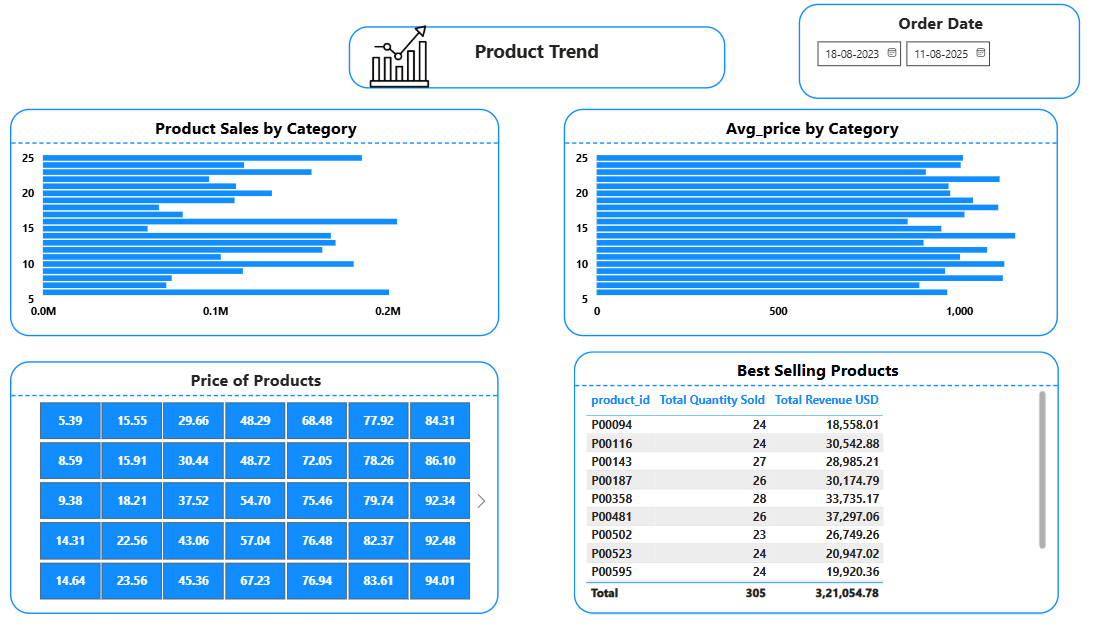

The page's visual inventory and layout, read from the dashboard file:
{"tool":"powerbi","page":{"name":"Product Trend","canvas":[1280,720],"ordinal":2},"visuals":[{"type":"barChart","title":"Product Sales by Category","fields":{"Category":["ecom_maang categories.category_id"],"Y":["ecom_maang categories.Product Sales USD"]},"box":[16.9,124.1,559,260.2],"z":0},{"type":"barChart","title":"Avg_price  by Category","fields":{"Category":["ecom_maang categories.category_id"],"Y":["ecom_maang categories.Average Product Price USD"]},"box":[649.4,124.1,565.1,260.2],"z":1000},{"type":"tableEx","title":"Best Selling Products","fields":{"Values":["ecom_maang products.product_id","ecom_maang categories.Total Quantity Sold","ecom_maang categories.Total Revenue USD"]},"box":[661.4,401.4,554.3,300],"z":2000},{"type":"textbox","box":[403.6,30.1,430.1,71.1],"z":3000},{"type":"image","box":[415.7,15.7,92.8,97.6],"z":4000},{"type":"slicer","title":"Order Date","fields":{"Values":["ecom_maang products.created_at"]},"box":[918.6,4.3,324.3,120],"z":5000},{"type":"slicer","title":"Price of Products","fields":{"Values":["ecom_maang products.price_usd"]},"box":[17.1,412.9,558.6,288.6],"z":6000}]}

Visuals, with their boxes in screenshot pixels (x1, y1, x2, y2), scaled from the page's 1280x720 canvas onto the 1112x626 screenshot:
"Product Sales by Category" barChart: 15 108 500 334
"Avg_price  by Category" barChart: 564 108 1055 334
"Best Selling Products" tableEx: 575 349 1056 610
textbox: 351 26 724 88
image: 361 14 442 99
"Order Date" slicer: 798 4 1080 108
"Price of Products" slicer: 15 359 500 610
